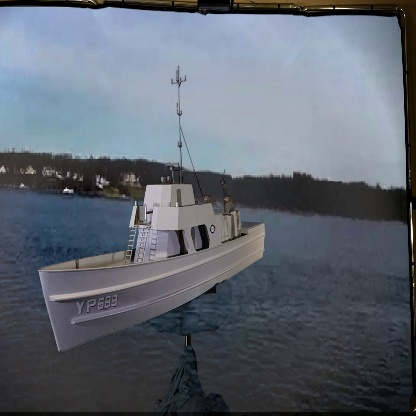YP689: (38, 66, 266, 352)
